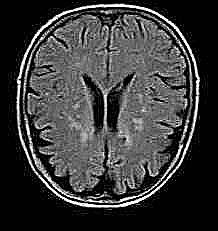Normal_Brain: (1, 2, 218, 231)
